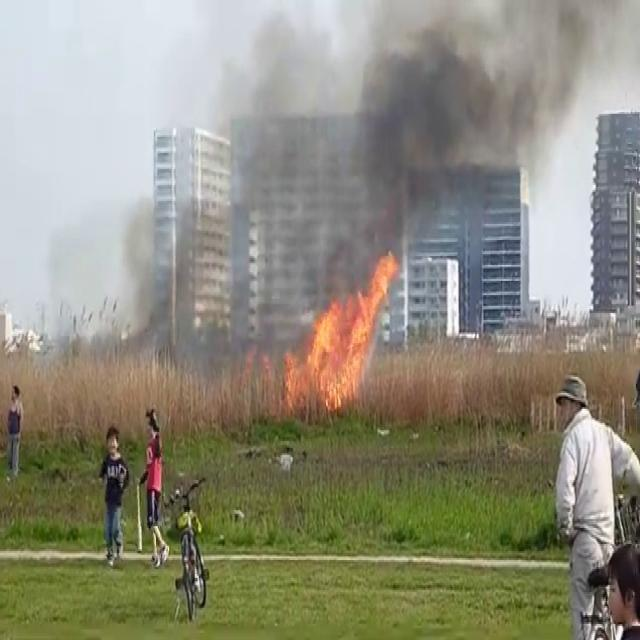Fire: (286, 254, 398, 414)
Smoke: (136, 0, 624, 375)
